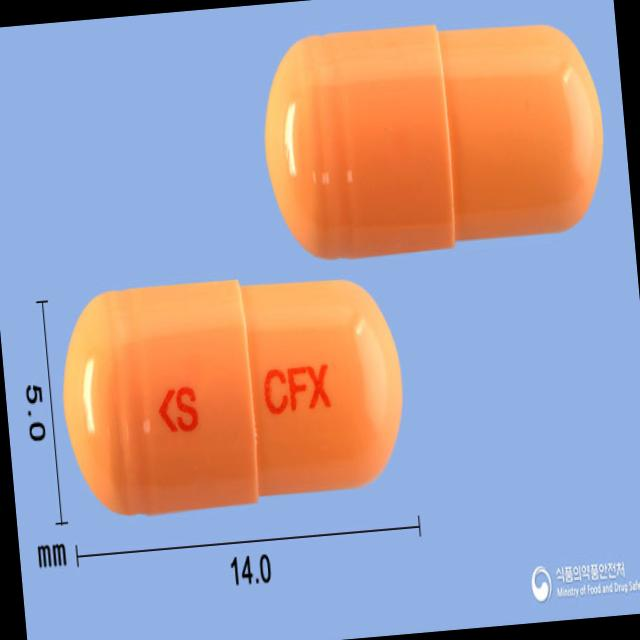Supric Cap: (53, 262, 411, 520)
